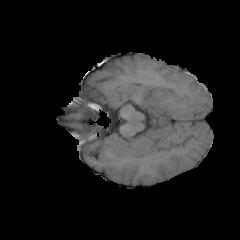glioma: (108, 81, 175, 111)
